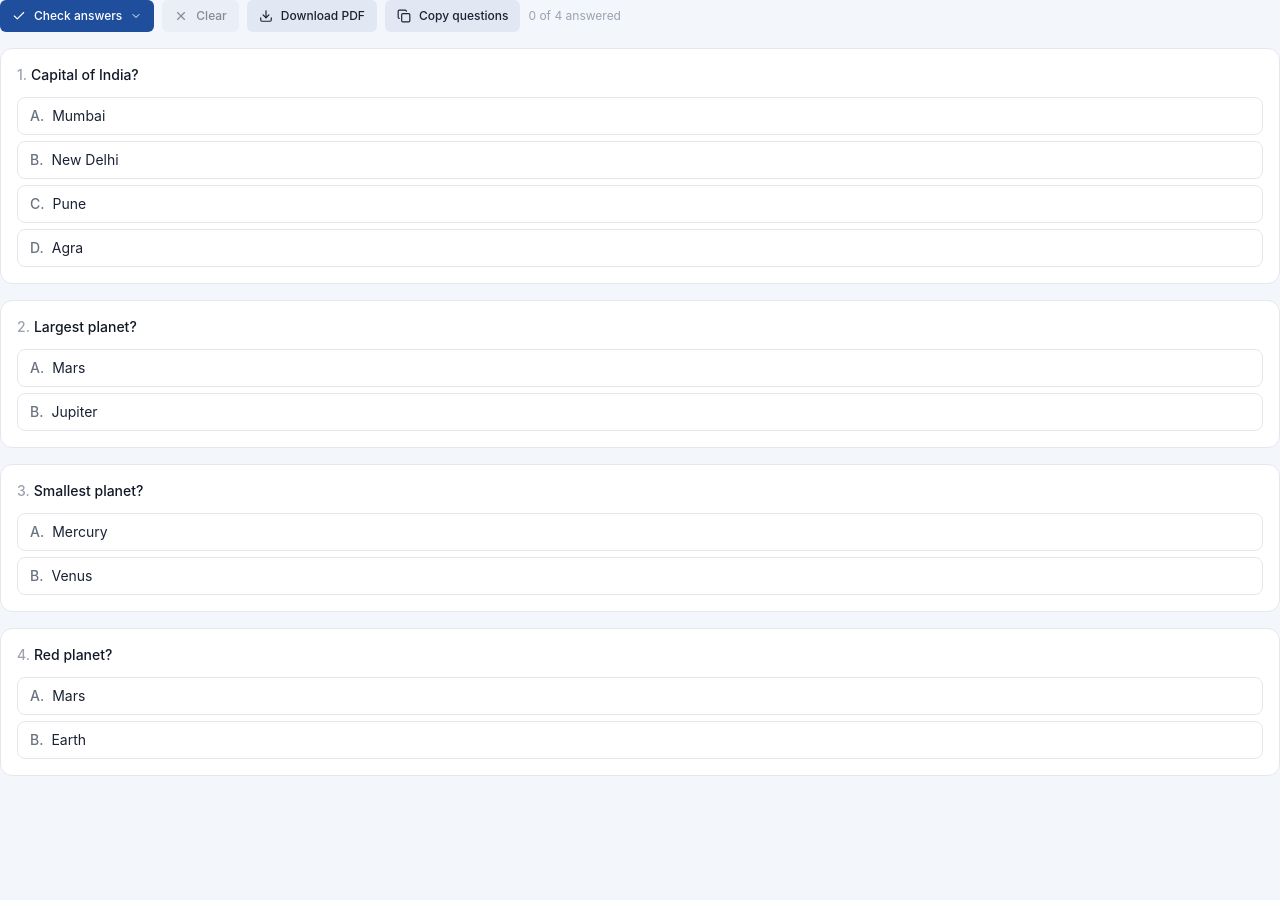
Test: Check answers › 'Check answered' marks only what was answered and adds Show answer under the others
Click the radio button labelled "B. New Delhi".
click(85, 160)  # box left=17, top=141, right=1263, bottom=179
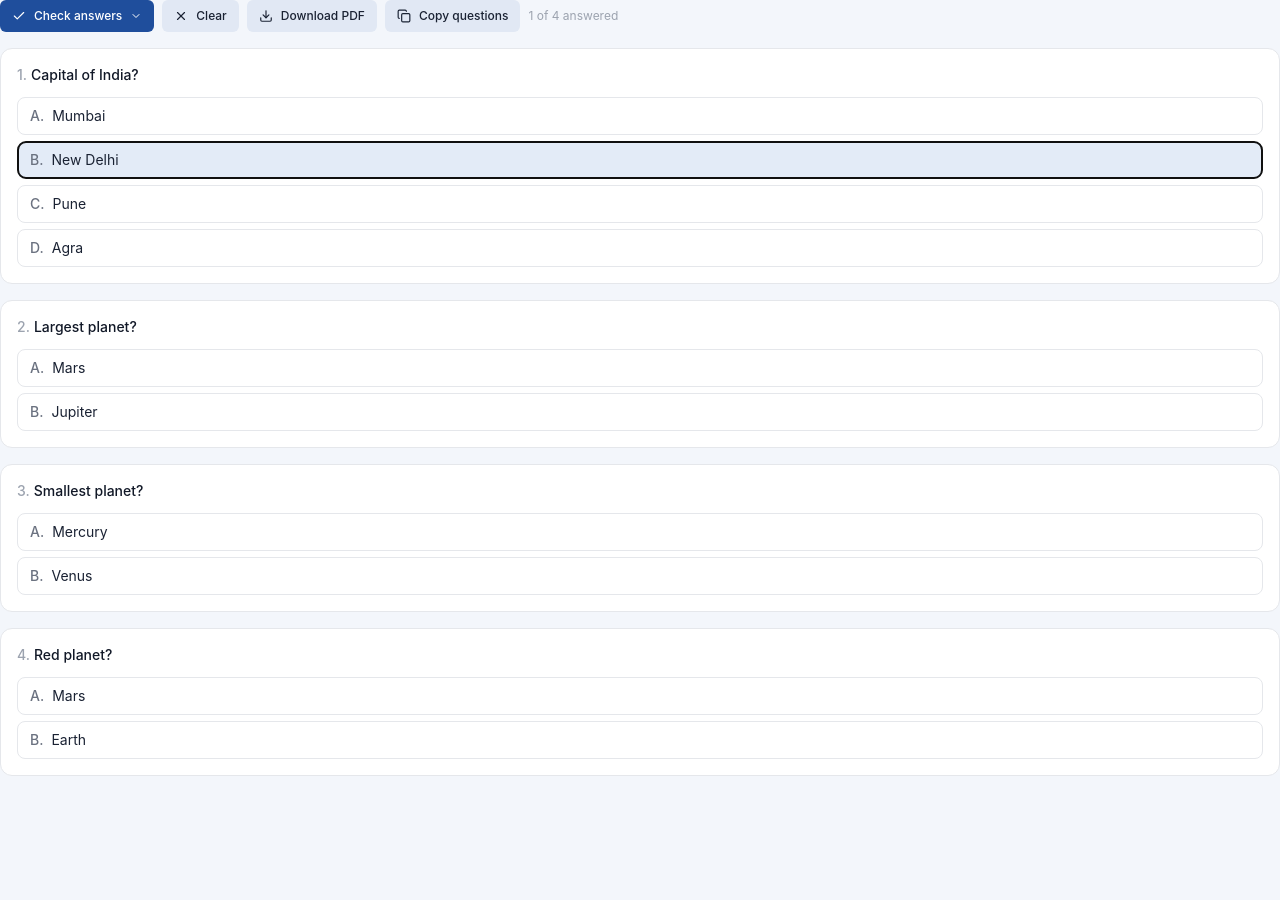
Click the radio button labelled "A. Mars" below "Largest planet?".
click(69, 368)  # box left=17, top=349, right=1263, bottom=387
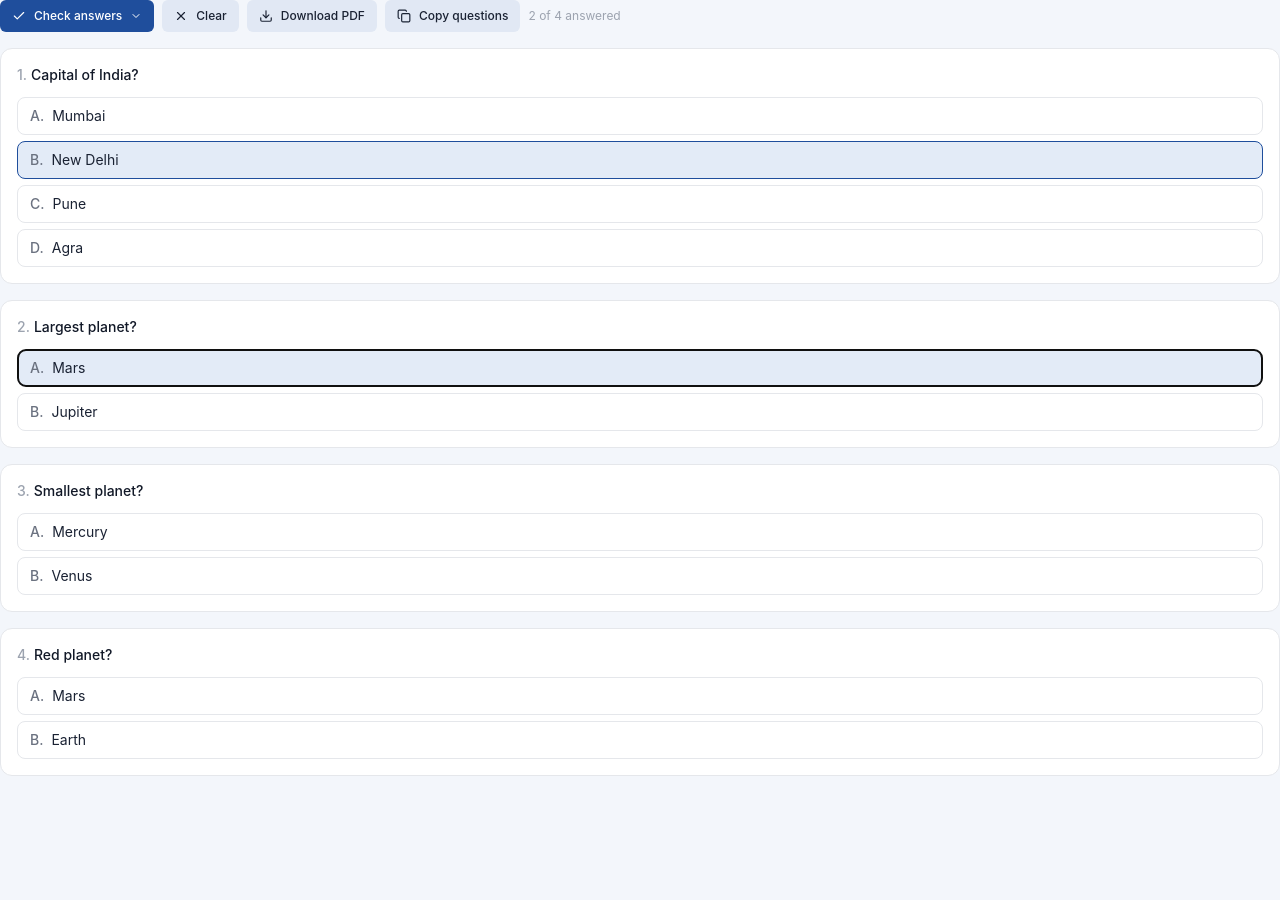
Click the button "Check answers".
click(77, 16)  # box left=0, top=0, right=154, bottom=32
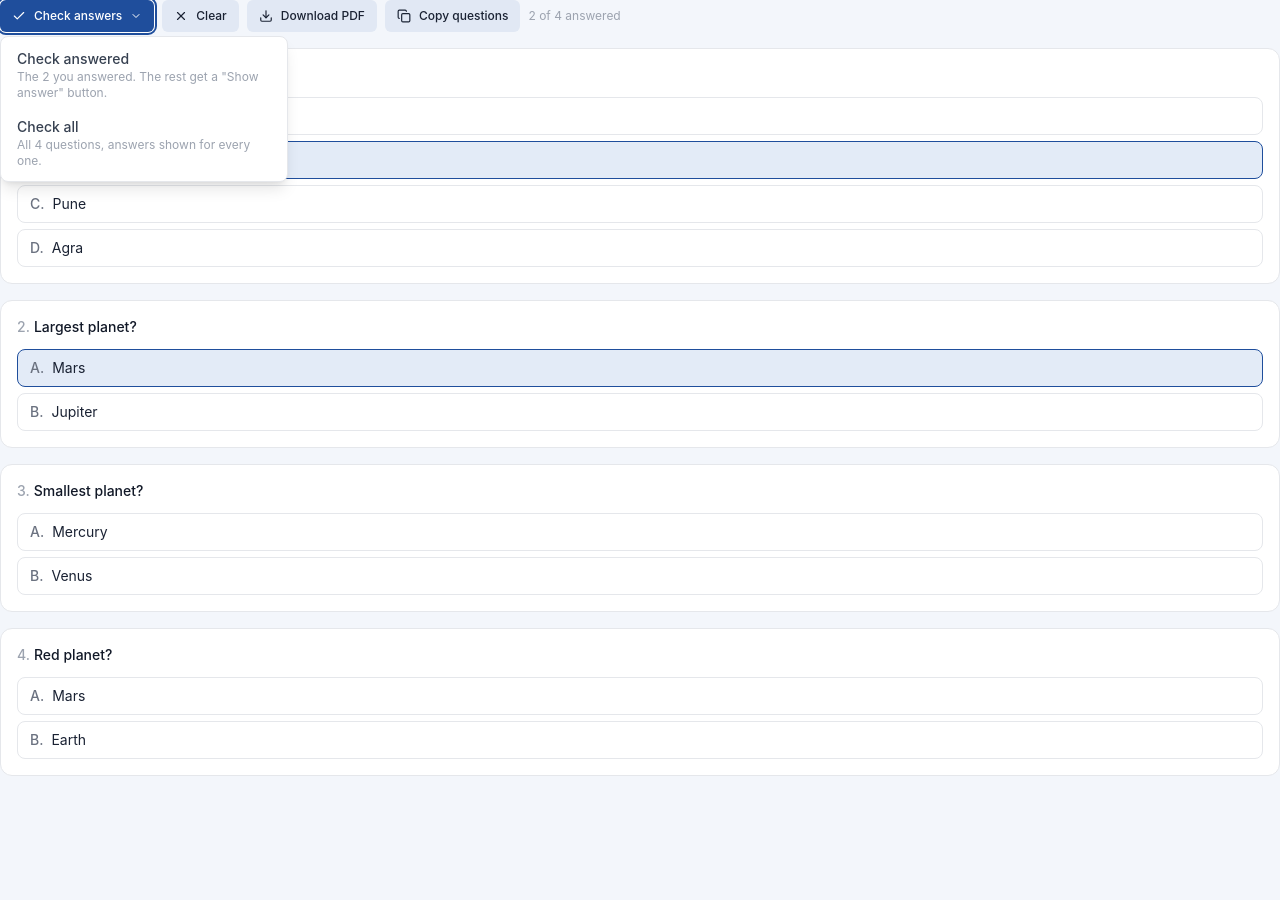
Click the menu item "Check answered".
click(144, 75)  # box left=1, top=41, right=287, bottom=109
(page scrolled)
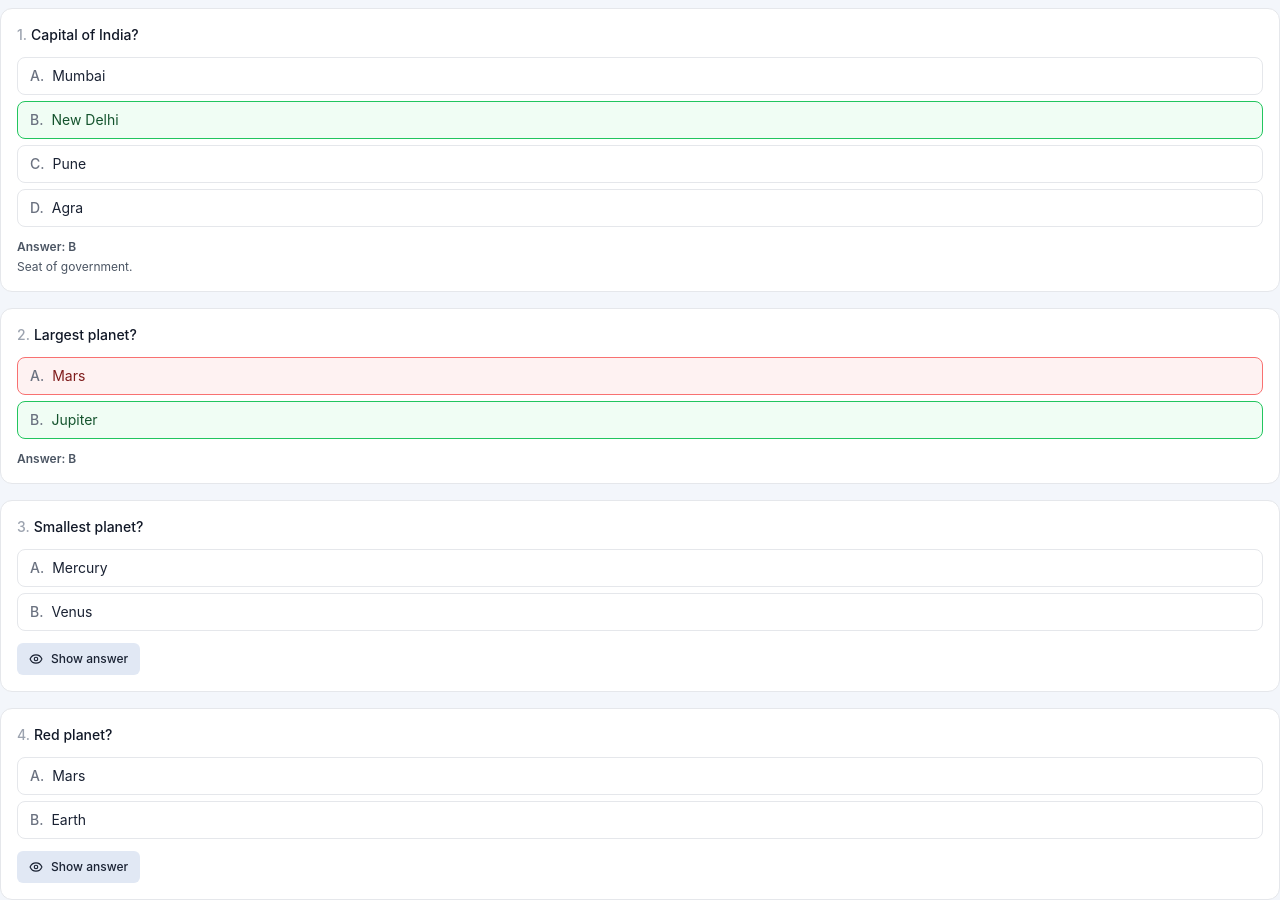
Expected: the button "Show answer" below "Red planet?" is shown, left=17, top=851, right=140, bottom=883
